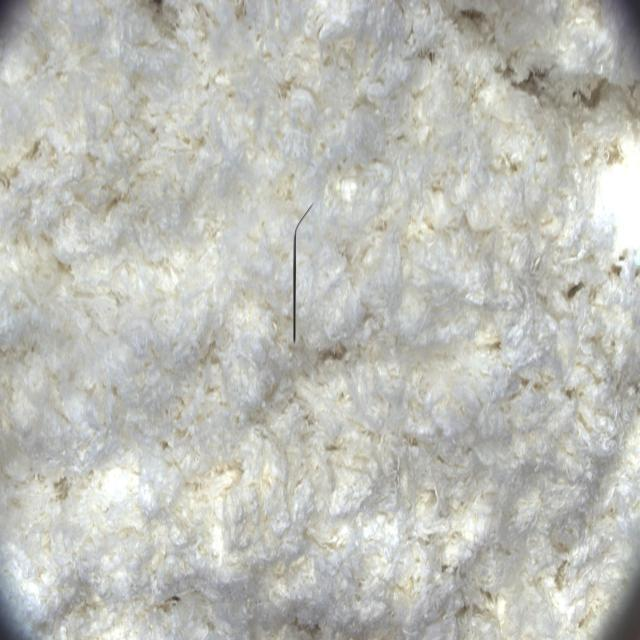dust: (269, 186, 326, 365)
